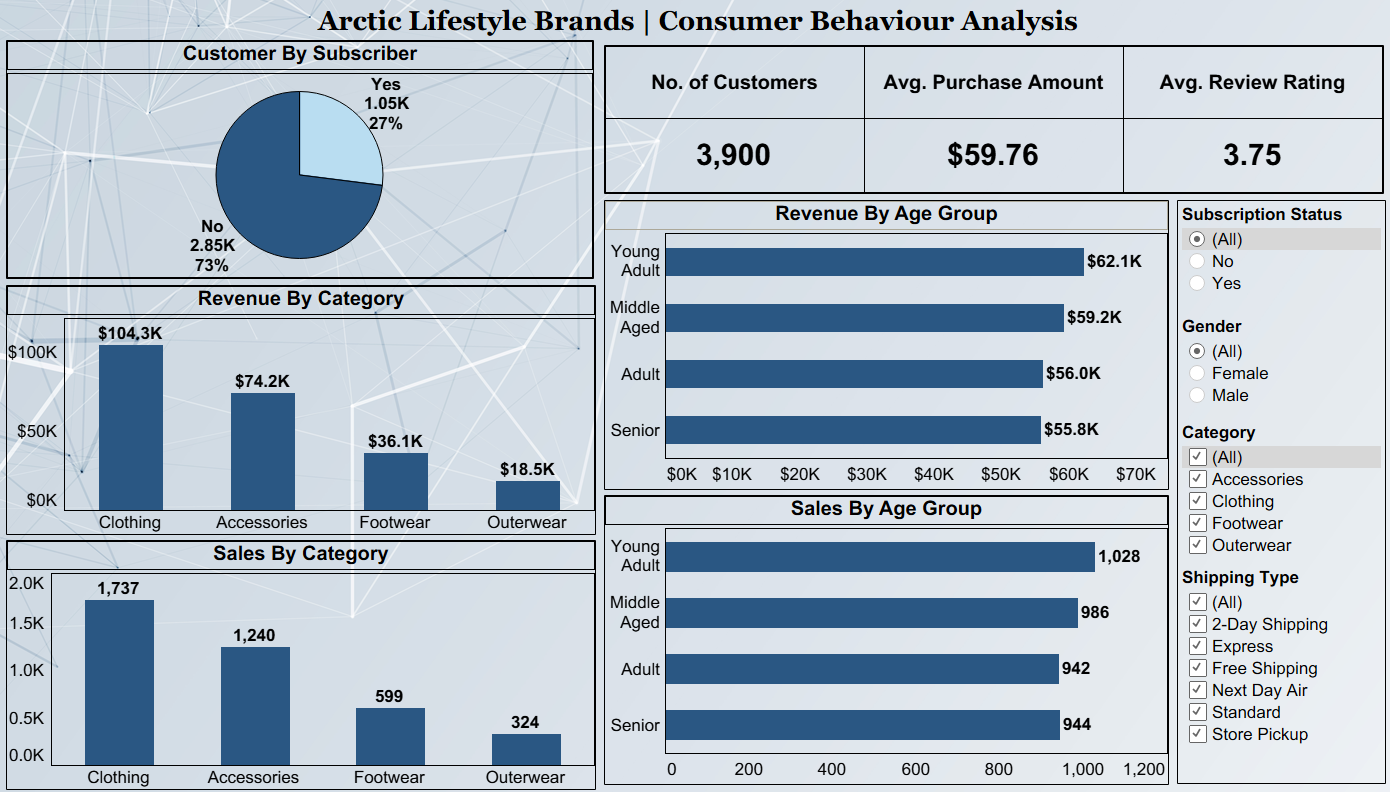

The dashboard page shown, as its layout file describes it:
{"tool":"tableau","page":{"name":"Dashboard","canvas":[1400,800],"ordinal":0},"visuals":[{"type":"image","param":"Image/1.jpg","box":[0,0,1400,800]},{"type":"text","box":[0,0,1400,47]},{"type":"worksheet","title":"Customer By Subscriber","mark":"Pie","box":[8,43,588,239]},{"type":"worksheet","title":"KPI","mark":"Text","box":[606,48,780,149]},{"type":"worksheet","title":"Revenue By Age Group","mark":"Automatic","rows":["age_group"],"cols":["purchase_amount"],"box":[606,203,565,290]},{"type":"filter","title":"Sales By Category","param":"[federated.0qpqeau1j13edi1g4iyhx153asvz].[none:subscription_status:nk]","box":[1180,204,207,112]},{"type":"worksheet","title":"Revenue By Category","mark":"Automatic","rows":["purchase_amount"],"cols":["category"],"box":[8,288,590,250]},{"type":"filter","title":"Sales By Category","param":"[federated.0qpqeau1j13edi1g4iyhx153asvz].[none:gender:nk]","box":[1180,316,207,106]},{"type":"filter","title":"Sales By Category","param":"[federated.0qpqeau1j13edi1g4iyhx153asvz].[none:category:nk]","box":[1180,422,207,145]},{"type":"worksheet","title":"Sales By Age Group","mark":"Automatic","rows":["age_group"],"cols":["customer_id"],"box":[606,498,565,290]},{"type":"worksheet","title":"Sales By Category","mark":"Automatic","rows":["customer_id"],"cols":["category"],"box":[8,543,590,250]},{"type":"filter","title":"Sales By Category","param":"[federated.0qpqeau1j13edi1g4iyhx153asvz].[none:shipping_type:nk]","box":[1180,567,207,192]}]}

Visuals, with their boxes in screenshot pixels (x1, y1, x2, y2), scaled from the page's 1400x800 canvas onto the 1390x792 screenshot:
image: <bbox>0, 0, 1389, 791</bbox>
text: <bbox>0, 0, 1389, 47</bbox>
"Customer By Subscriber" worksheet (Pie marks): <bbox>8, 43, 592, 279</bbox>
"KPI" worksheet (Text marks): <bbox>602, 48, 1376, 195</bbox>
"Revenue By Age Group" worksheet: <bbox>602, 201, 1163, 488</bbox>
"Sales By Category" filter: <bbox>1172, 202, 1377, 313</bbox>
"Revenue By Category" worksheet: <bbox>8, 285, 594, 533</bbox>
"Sales By Category" filter: <bbox>1172, 313, 1377, 418</bbox>
"Sales By Category" filter: <bbox>1172, 418, 1377, 561</bbox>
"Sales By Age Group" worksheet: <bbox>602, 493, 1163, 780</bbox>
"Sales By Category" worksheet: <bbox>8, 538, 594, 785</bbox>
"Sales By Category" filter: <bbox>1172, 561, 1377, 751</bbox>
